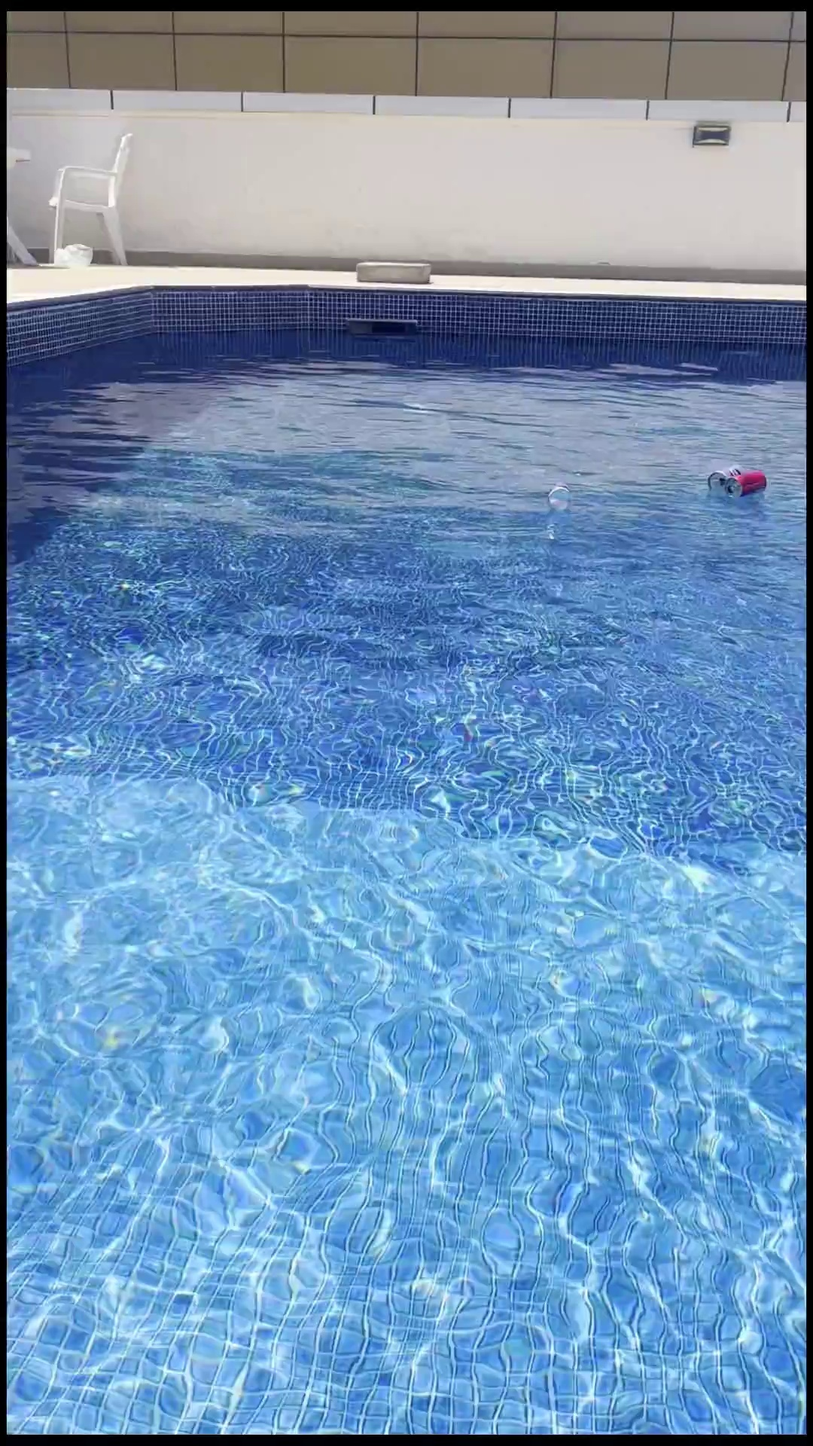debris: (704, 452, 741, 502), (723, 467, 765, 506)
